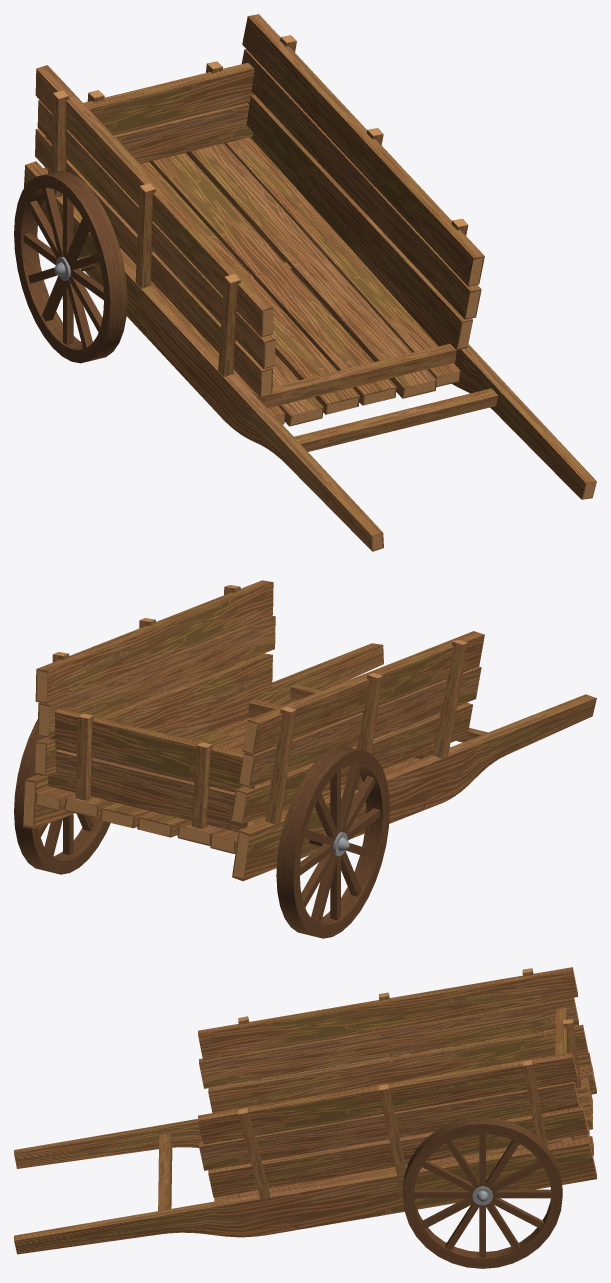
Rendered from wagon.glb.
3 views of the same model, one above another, from view 1: azimuth 30°, elevation 25°; view 2: azimuth 150°, elevation 25°; view 3: azimuth 270°, elevation 25° (orthographic). The views are drawn at different scales.
Parts seen in each view (by area): view 1: Prop_Wagon; view 2: Prop_Wagon; view 3: Prop_Wagon.
Boxes of the visible parts, x1,y1,x2,y2 form: Prop_Wagon: [14, 14, 596, 551]; Prop_Wagon: [14, 580, 596, 938]; Prop_Wagon: [14, 967, 596, 1268].
Size of the model in its own units: 1.95 by 1.53 by 4.02.
Materials: 1 (1 with a texture image).
